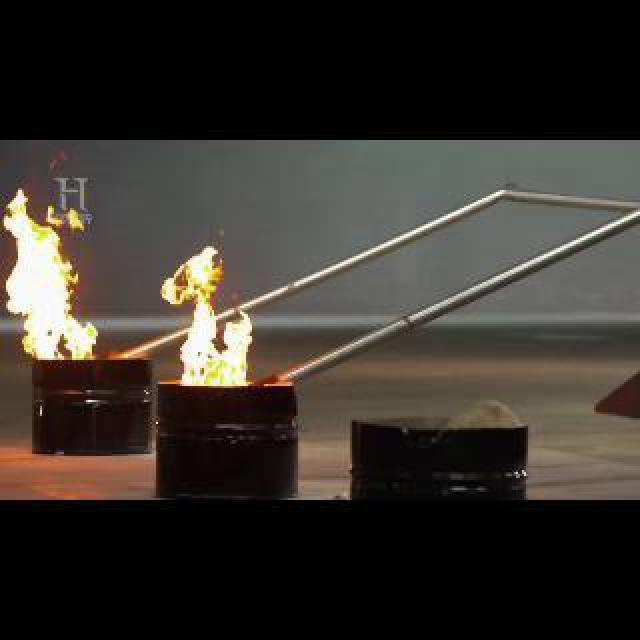zfire: (6, 188, 122, 378), (164, 240, 270, 386)
